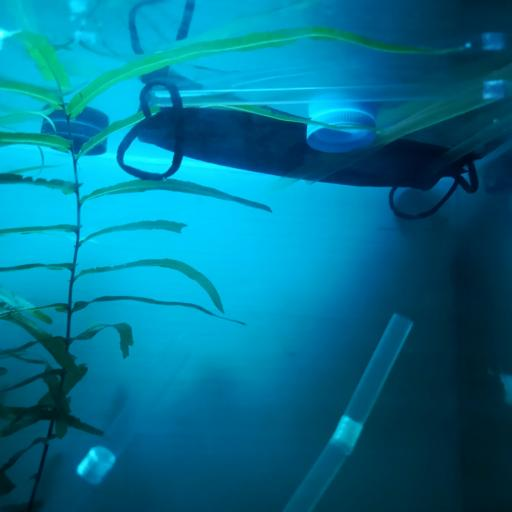bottle_cap: (306, 108, 375, 151), (42, 116, 105, 152)
mask: (119, 72, 479, 220)
plastic_straw: (36, 341, 192, 512), (290, 313, 414, 512), (270, 98, 512, 192), (302, 97, 512, 190), (152, 79, 512, 106), (418, 117, 512, 180)
